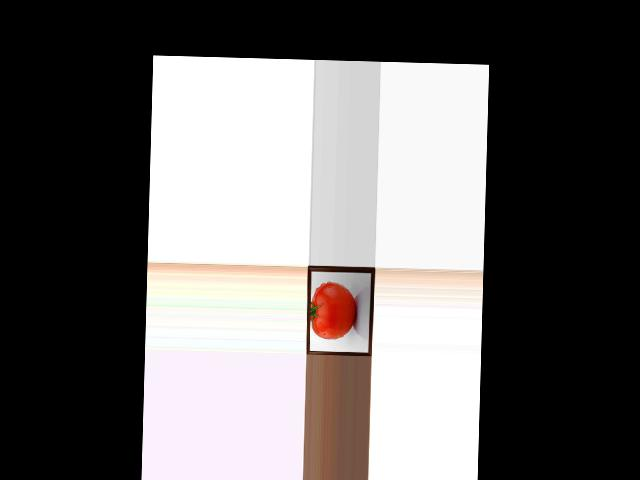tomato: (309, 281, 357, 339)
